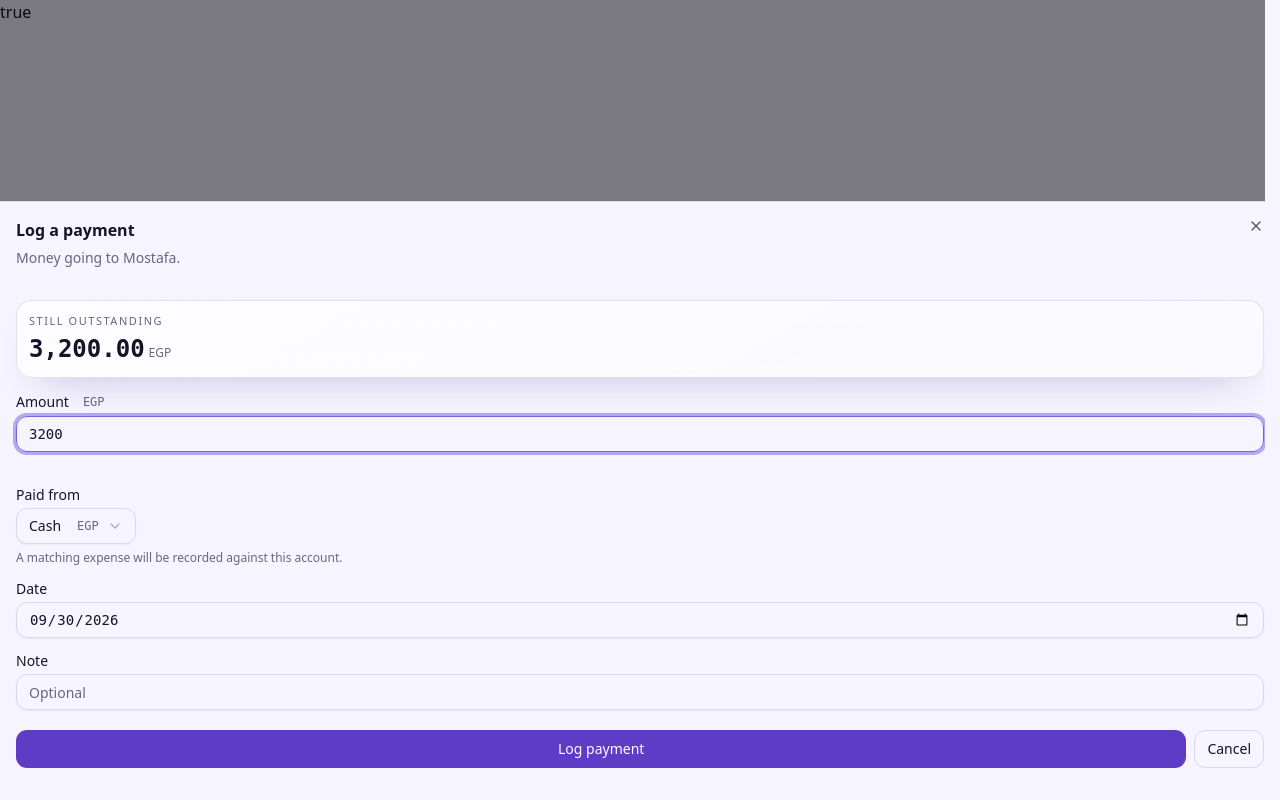
Test: recording the matching transaction › says what will happen to the account balance, either way
Expected: the text "A matching expense will be recorded against this account." is shown, [16,549,342,566]
Click the dropdown named "Paid from". click: (76, 526)
box: [16,508,136,544]
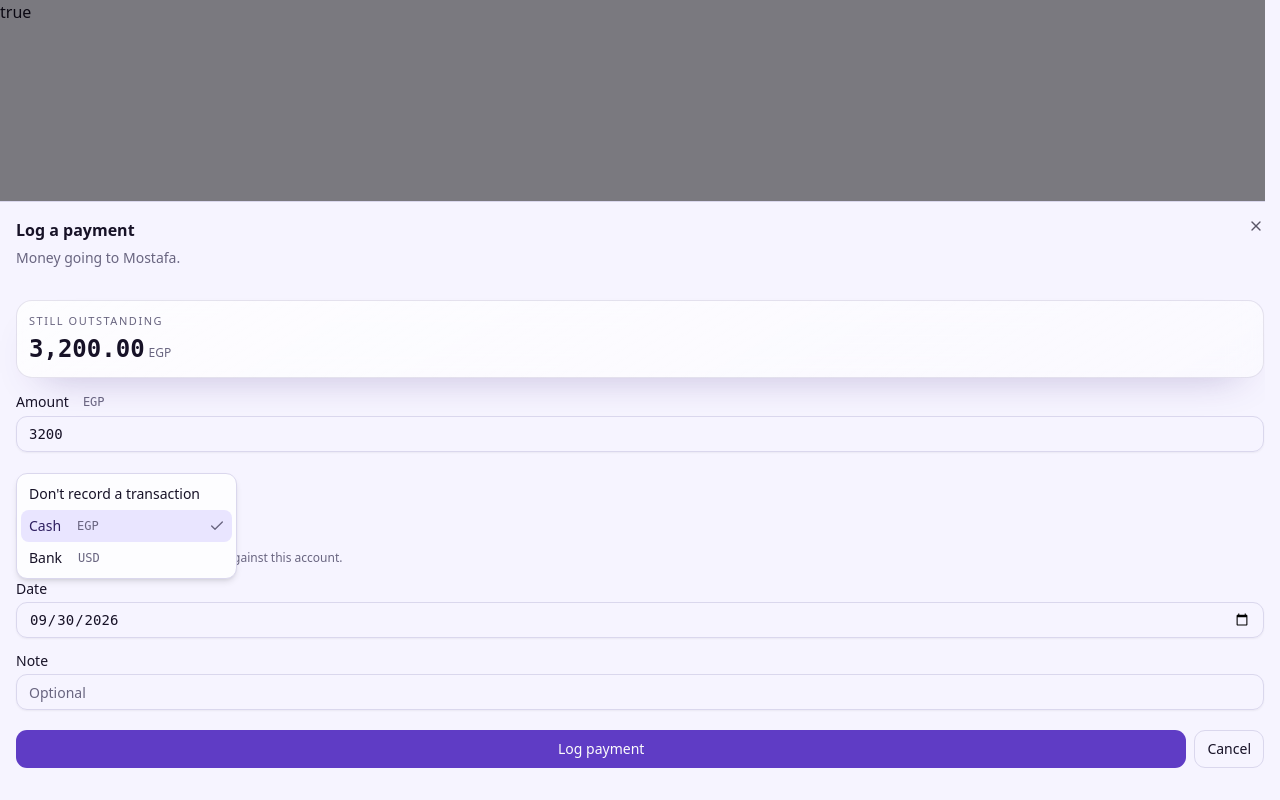
Click the option "Don't record a transaction". click: (114, 494)
box: [29,484,200,503]
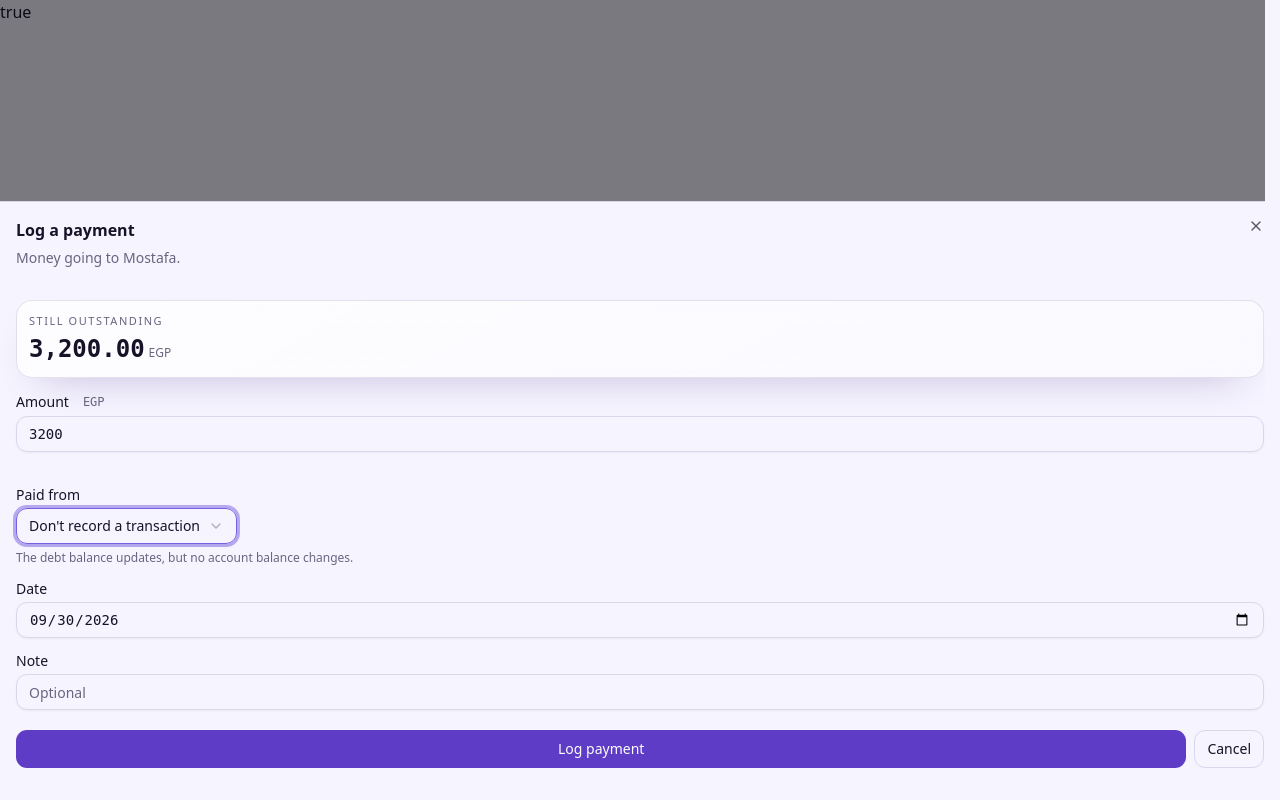
Now the text "The debt balance updates, but no account balance changes." is shown, box [16,549,353,566]
